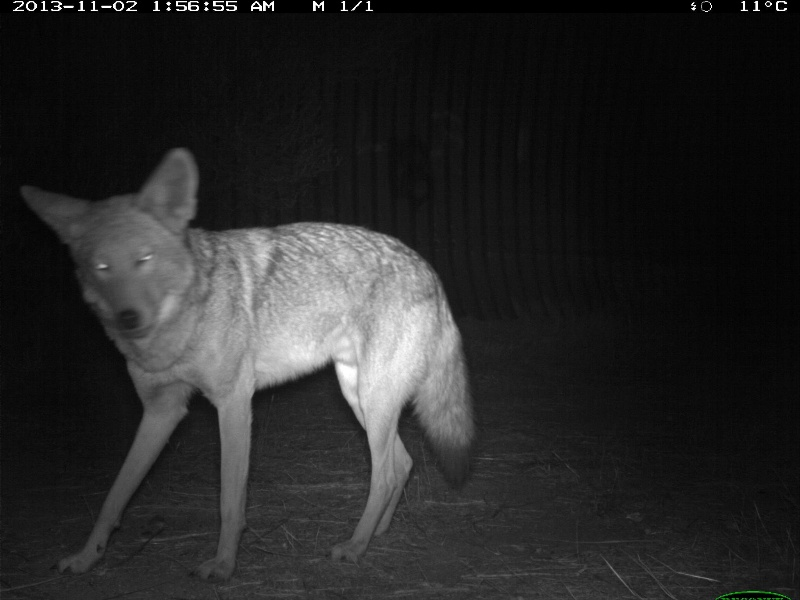coyote: (15, 139, 488, 575)
